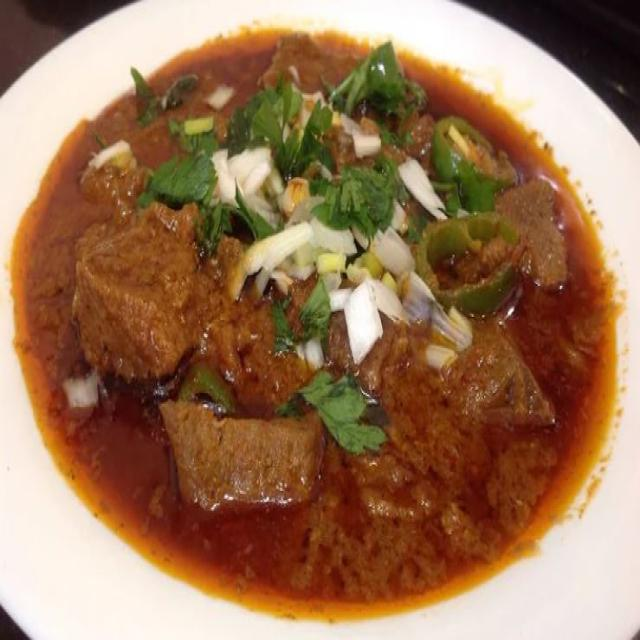kamouniya: (20, 28, 629, 594)
